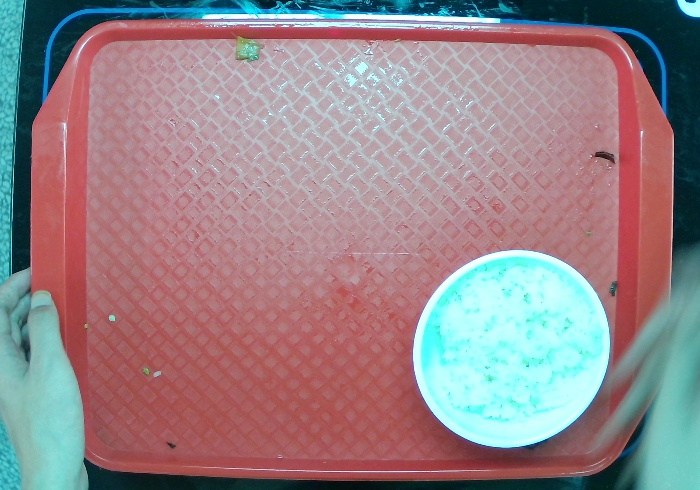YKMZ-Fan_Wan: (410, 248, 612, 449)
